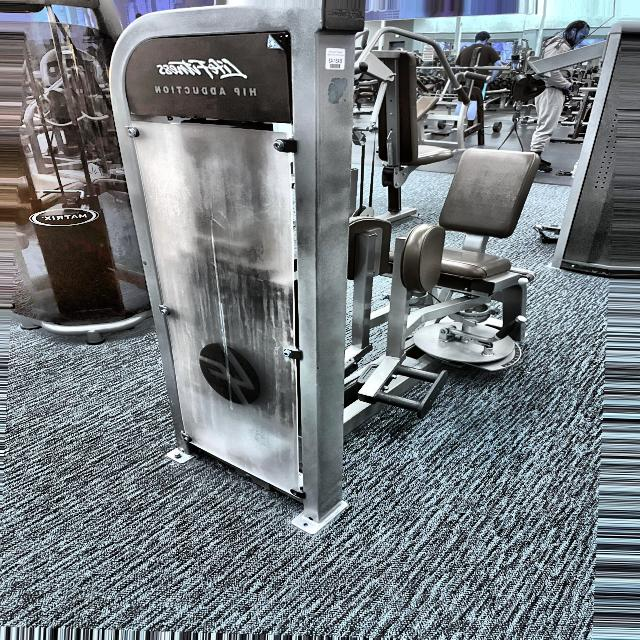hip_adduction_machine: (344, 98, 563, 436), (146, 76, 260, 115)
